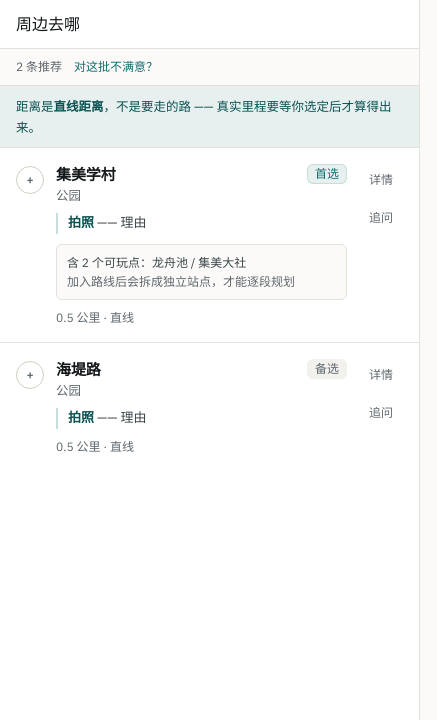
Test case: 结果页 · 追问新增项的归属 › 单点追问新增的项，挂在那条地点下面
Click the 2nd button "追问": (381, 413) [359, 397, 403, 429]
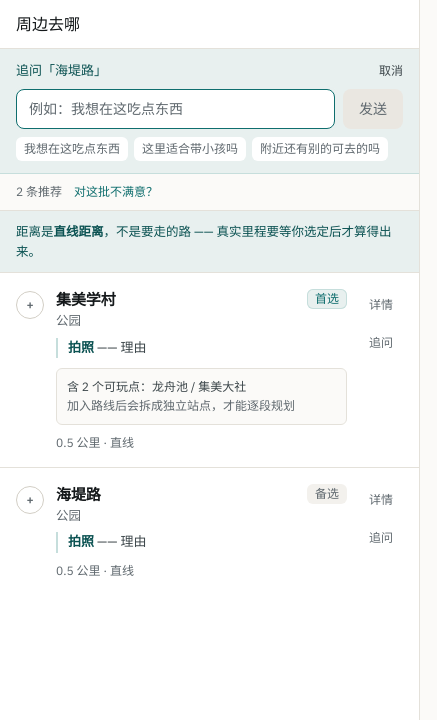
In the field with placeholder "例如：我想在这吃点东西": (176, 108) [16, 88, 335, 128], type "在附近找点好吃的"
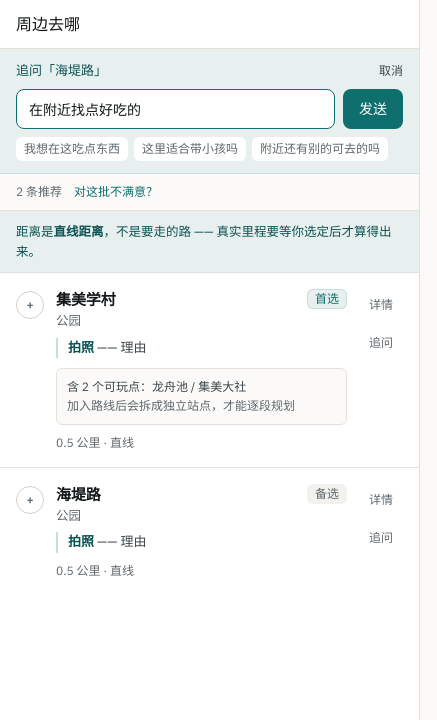
Click the button "发送": (373, 108) [343, 88, 403, 128]
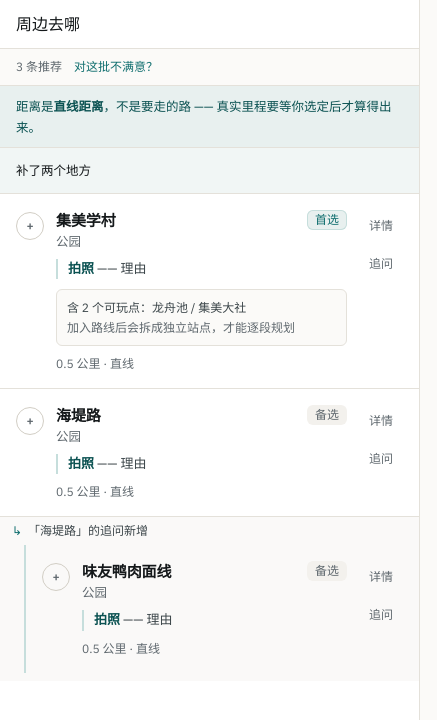
Expected: the text "「海堤路」的追问新增" is shown, [12, 523, 148, 538]
